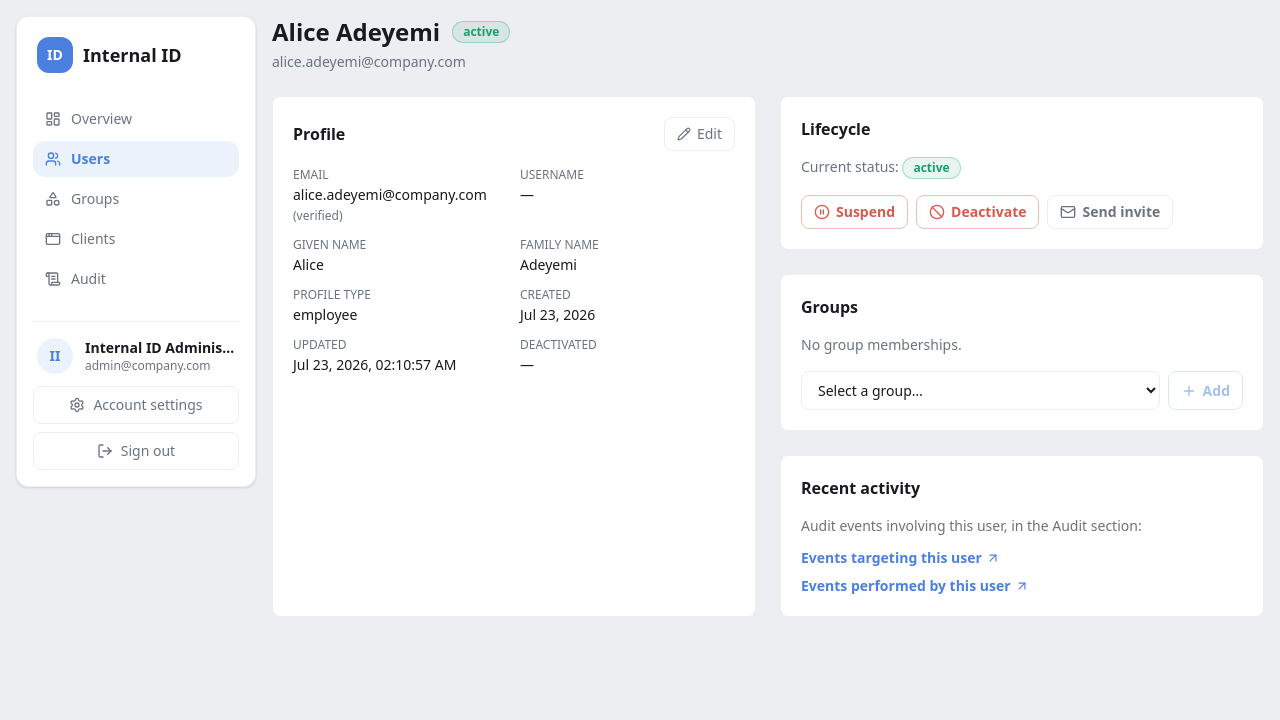
Test case: no session, CSRF, or secret material is written to web storage
The image size is (1280, 720).
Expected: the heading "Alice Adeyemi" is shown, [272, 16, 440, 48]
Note: Drive a CSRF-protected mutation end-to-end.
What coordinates should you click on to do the following:
click the button "Suspend"
I would click on:
 (855, 212)
Its box is [801, 195, 908, 229].
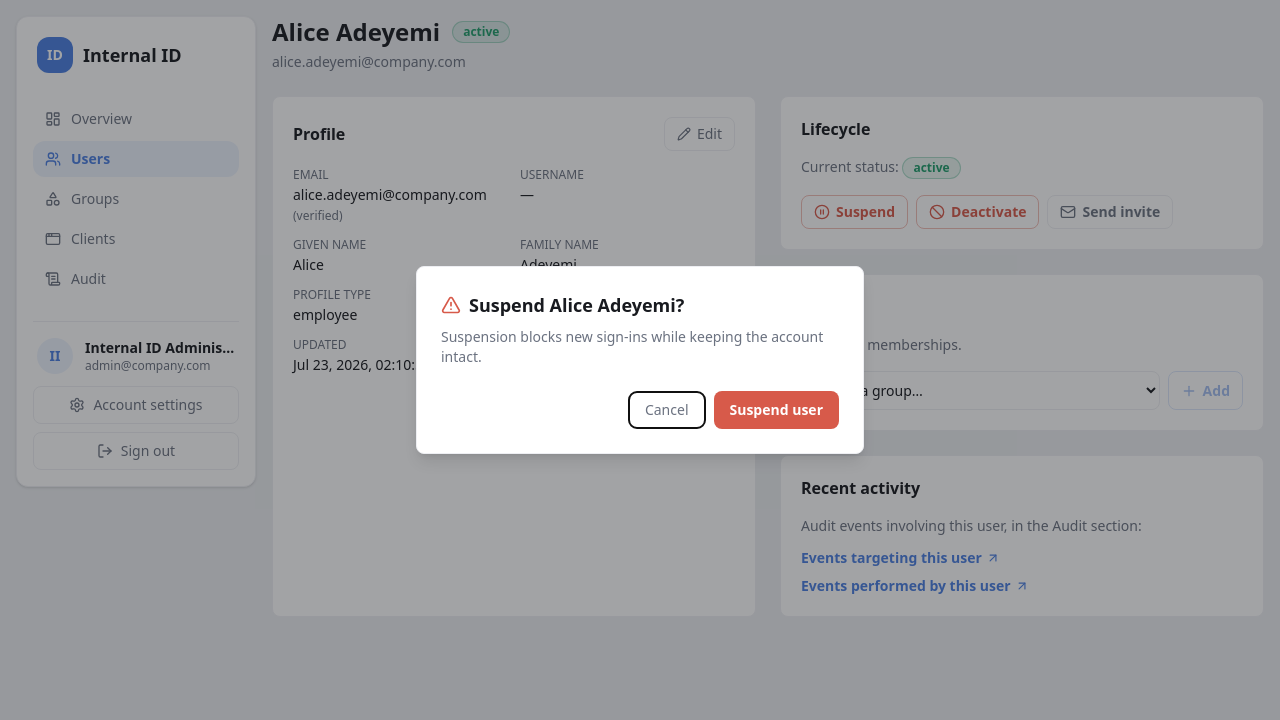
What coordinates should you click on to do the following:
click the button "Suspend user"
I would click on:
 (776, 410)
Its box is [714, 391, 839, 429].
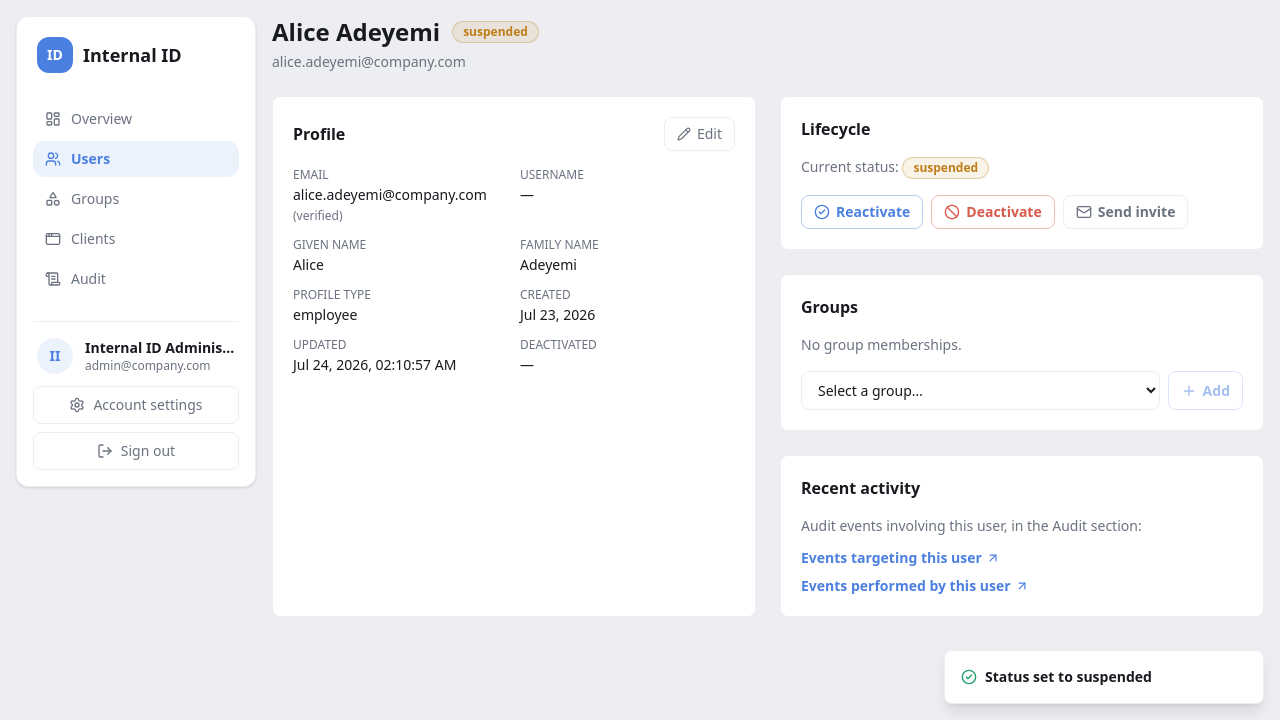
Expected: the text "Status set to suspended" is shown, [961, 667, 1152, 686]
